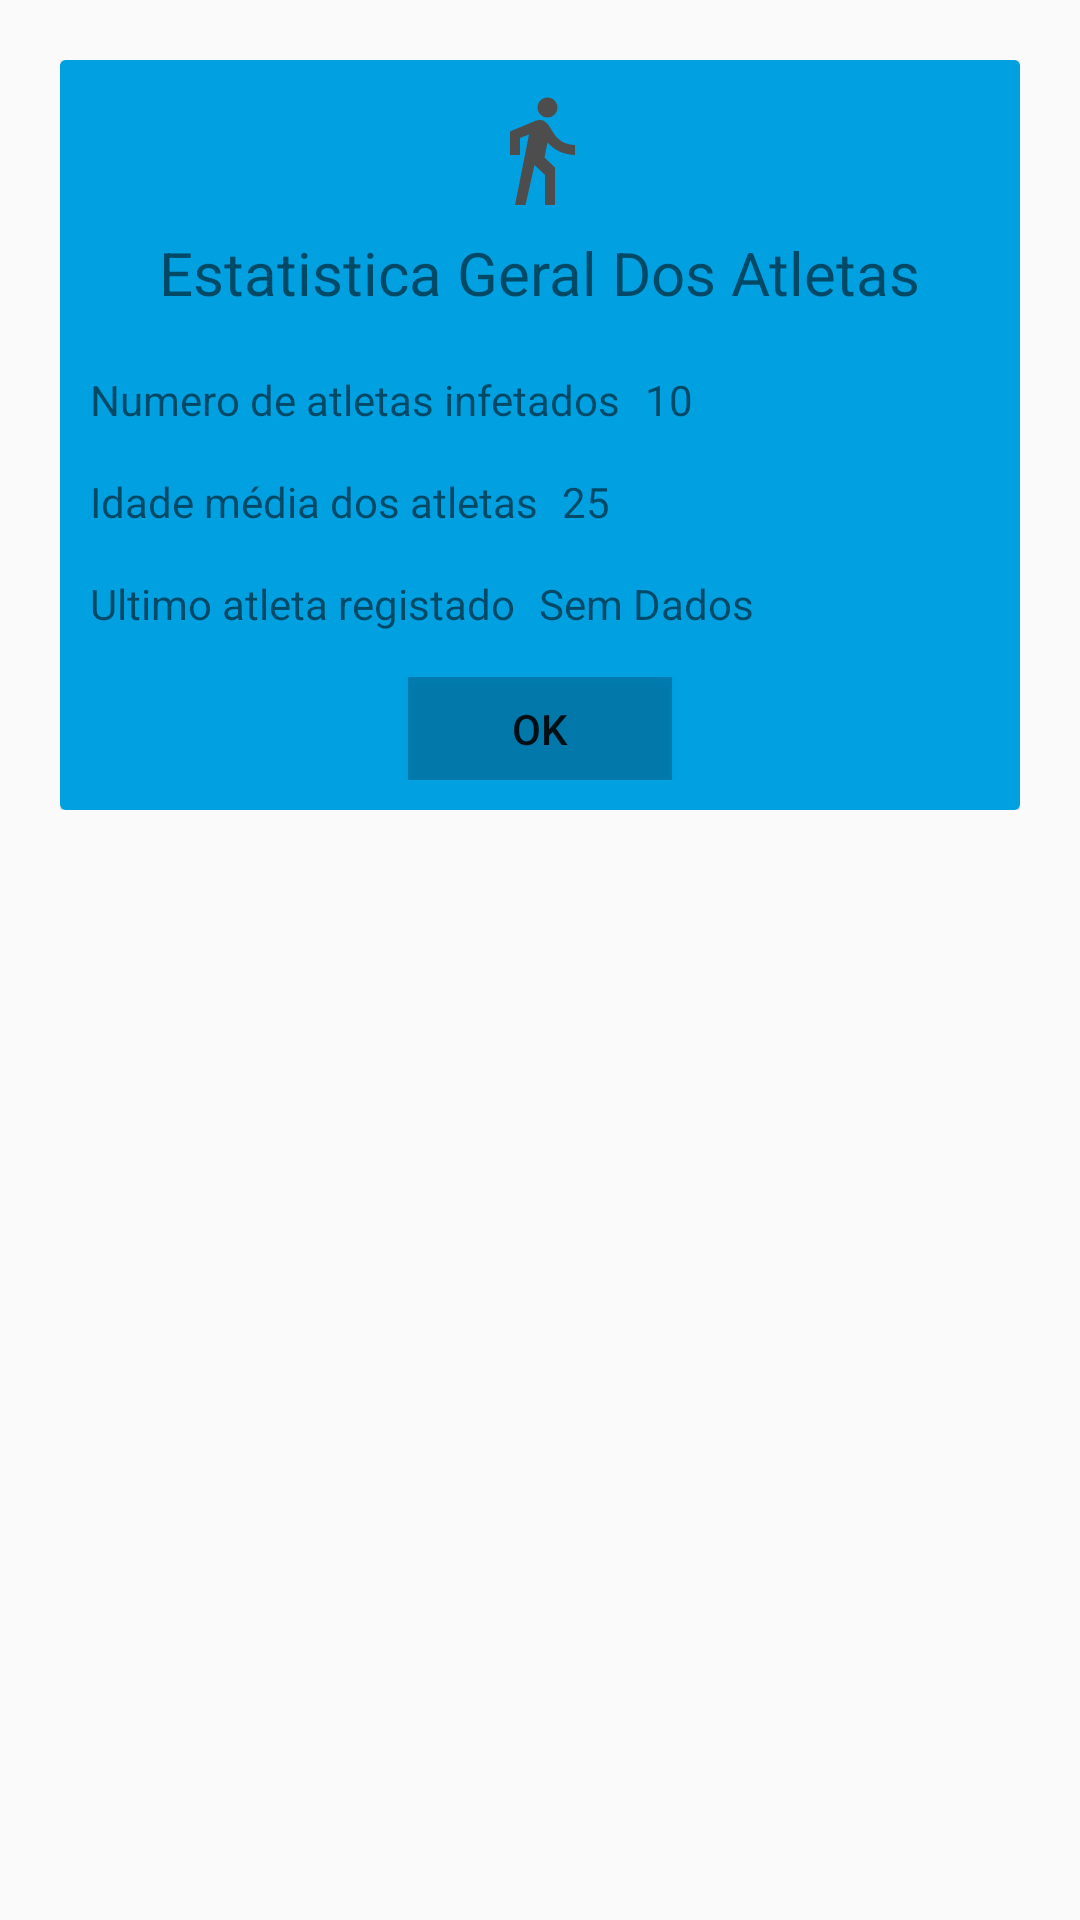

Icon click points for this 1080 x 1920 phone screenshot, format point (x, y):
jogador: point (542, 151)
